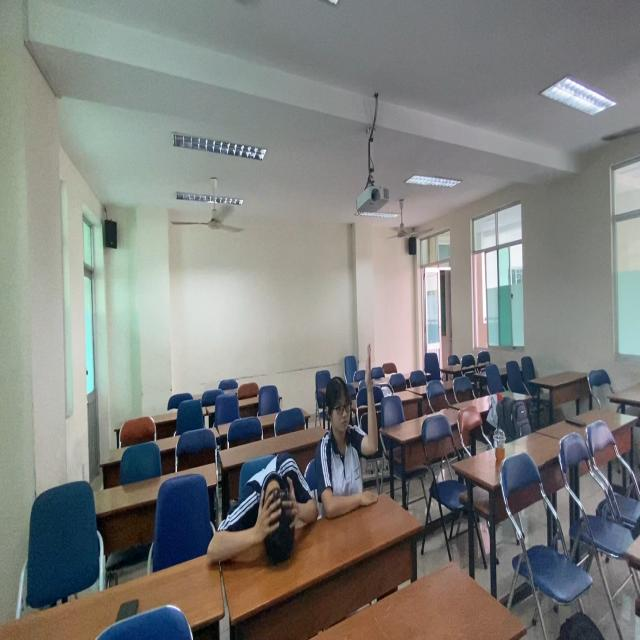raise_hand: (319, 340, 377, 513)
sleep: (204, 428, 321, 584)
